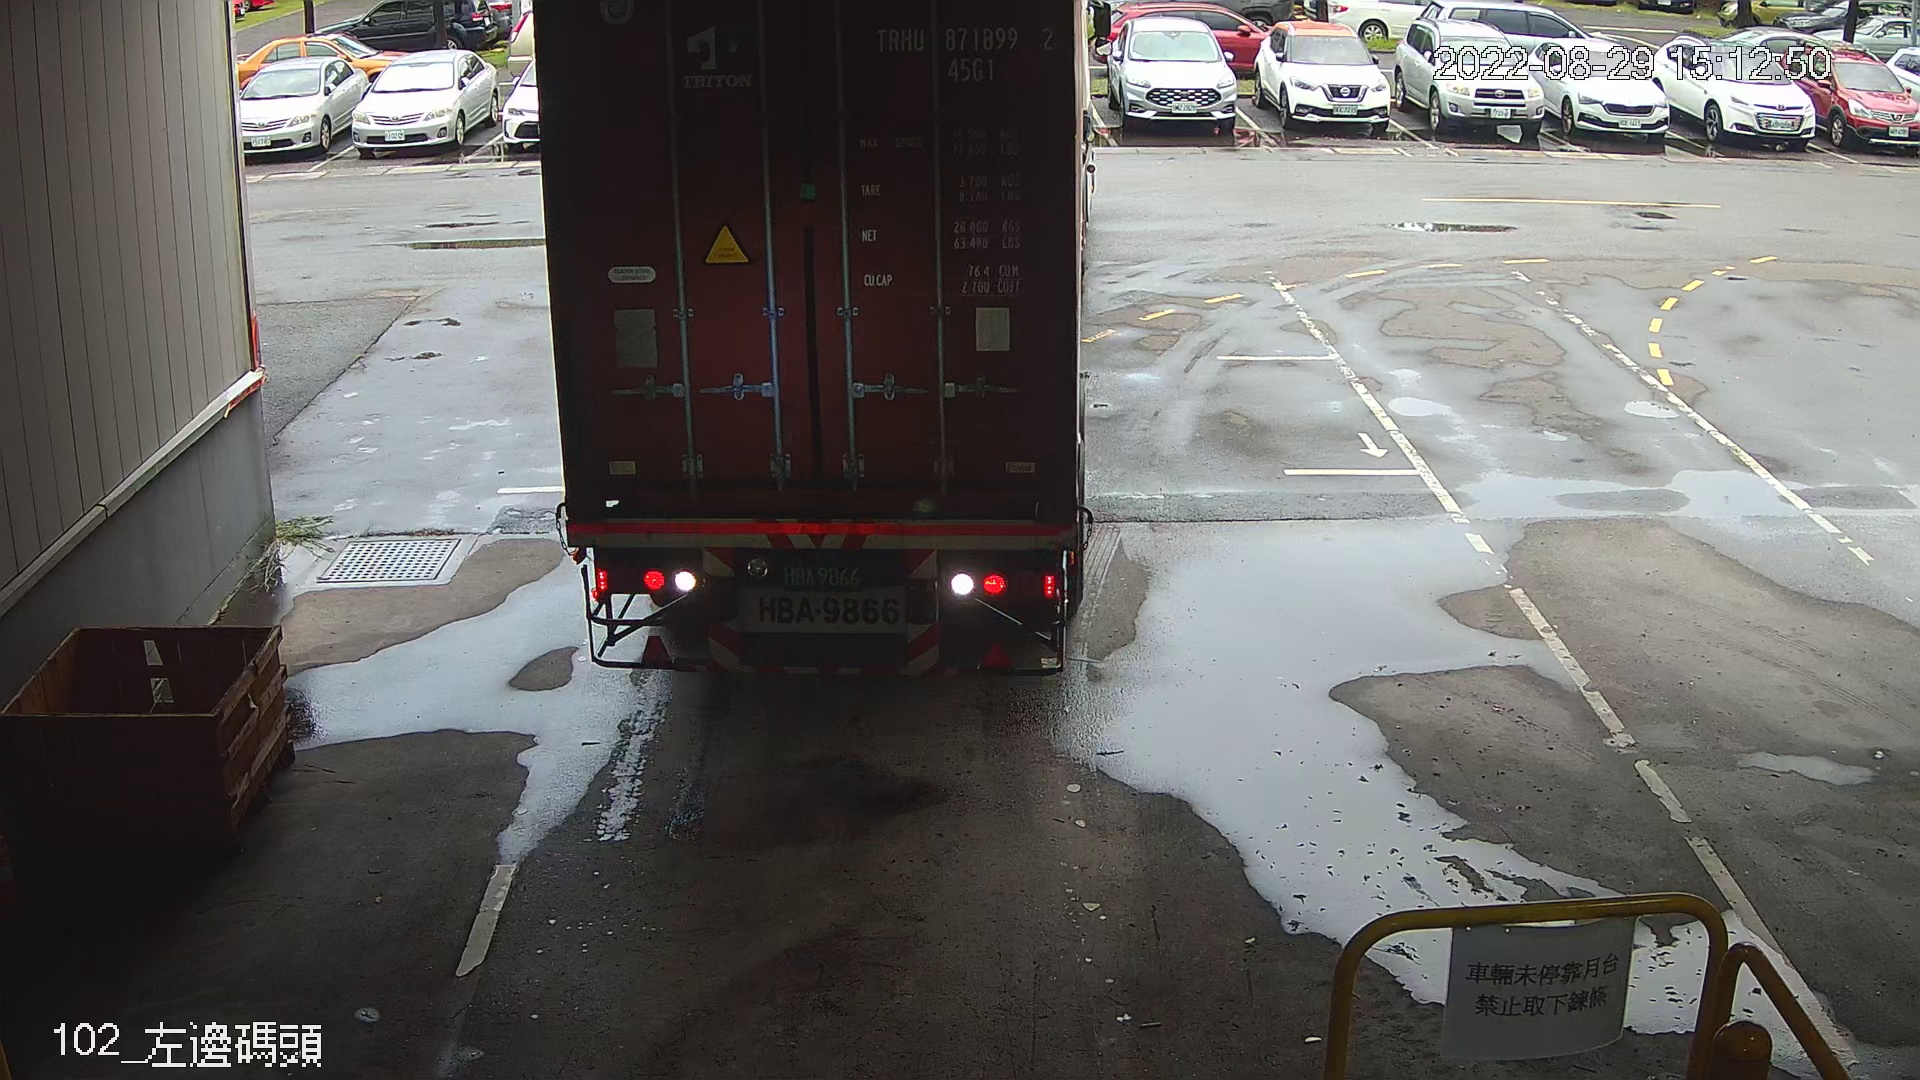container: (862, 17, 1063, 91)
